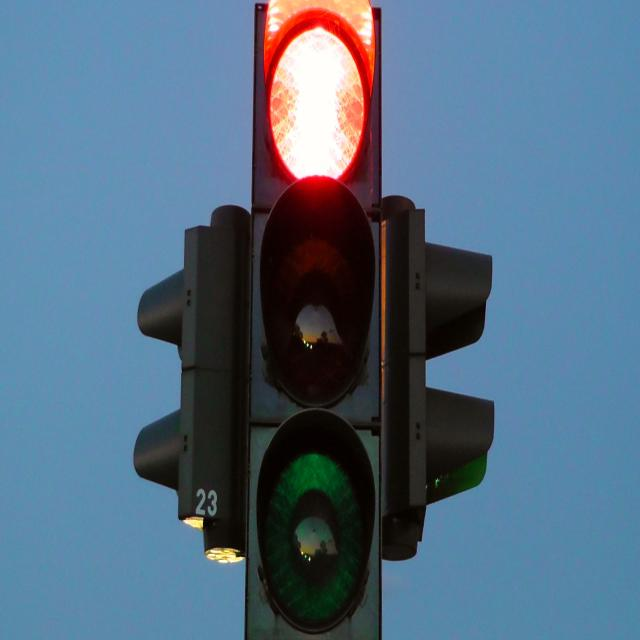green: (397, 380, 475, 545)
red: (258, 11, 374, 190)
